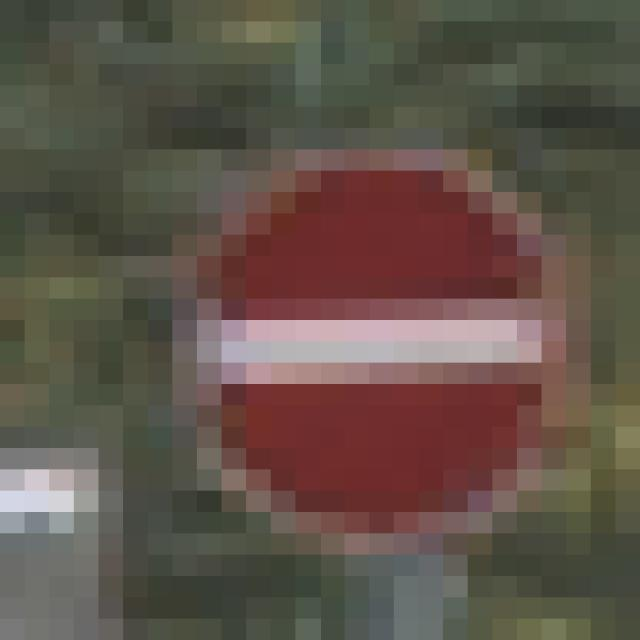No Entry: (149, 108, 518, 513)
